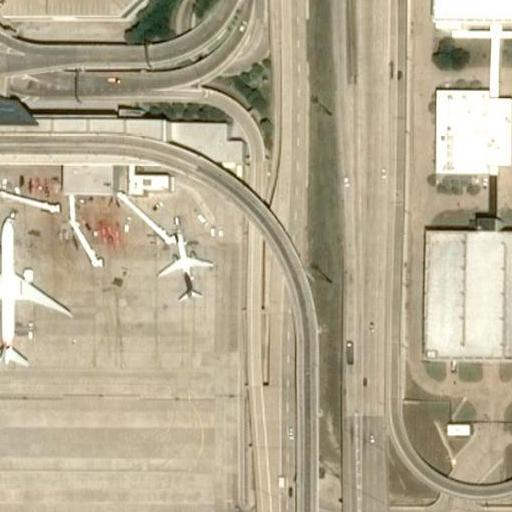Aircraft: (0, 211, 67, 368), (157, 232, 219, 300)
